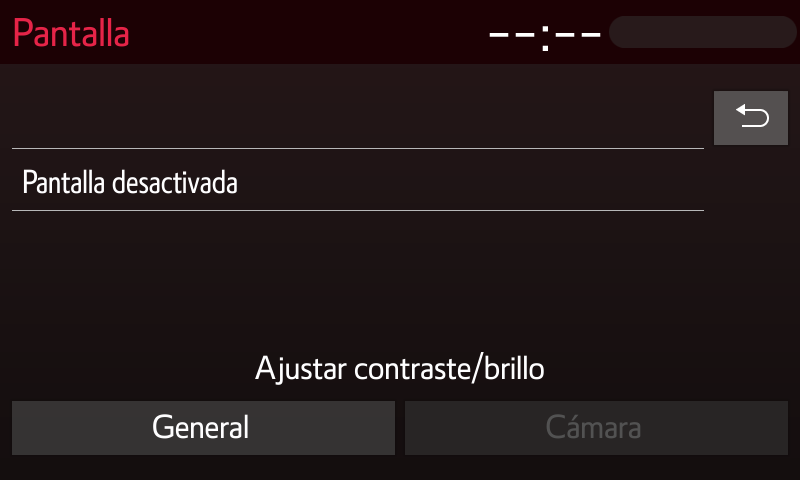touchPart: (8, 139, 705, 214), (8, 393, 399, 460), (711, 85, 789, 151)
untouchPart: (403, 400, 792, 459), (470, 2, 797, 54), (7, 10, 140, 52)
